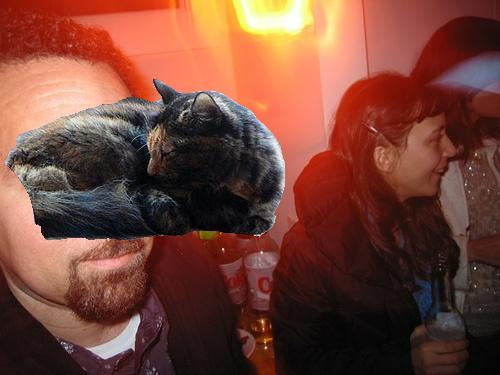tampered: (5, 80, 285, 240)
